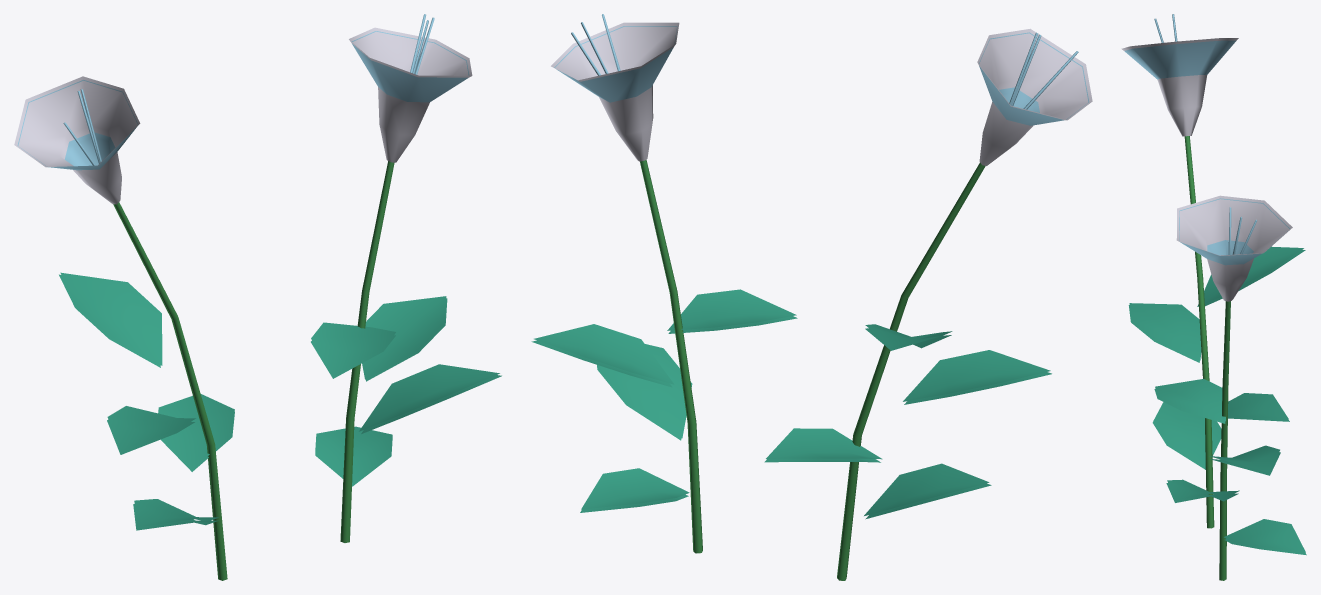
The model's file is ing_moonflower.gltf.
The picture shows the model from 3 angles, left to right: view 1: azimuth 30°, elevation 25°; view 2: azimuth 150°, elevation 25°; view 3: azimuth 270°, elevation 25°; orthographic projection. The views are drawn at different scales.
Parts seen in each view (by area): view 1: ing_moonflower; view 2: ing_moonflower; view 3: ing_moonflower.
Part boxes in pixels (x1,y1,x2,y2): ing_moonflower: (14,14,501,580); ing_moonflower: (531,14,1092,580); ing_moonflower: (1121,14,1306,580).
Size of what is drawn, in the model's own units: 0.4594 by 0.5067 by 0.1905.
